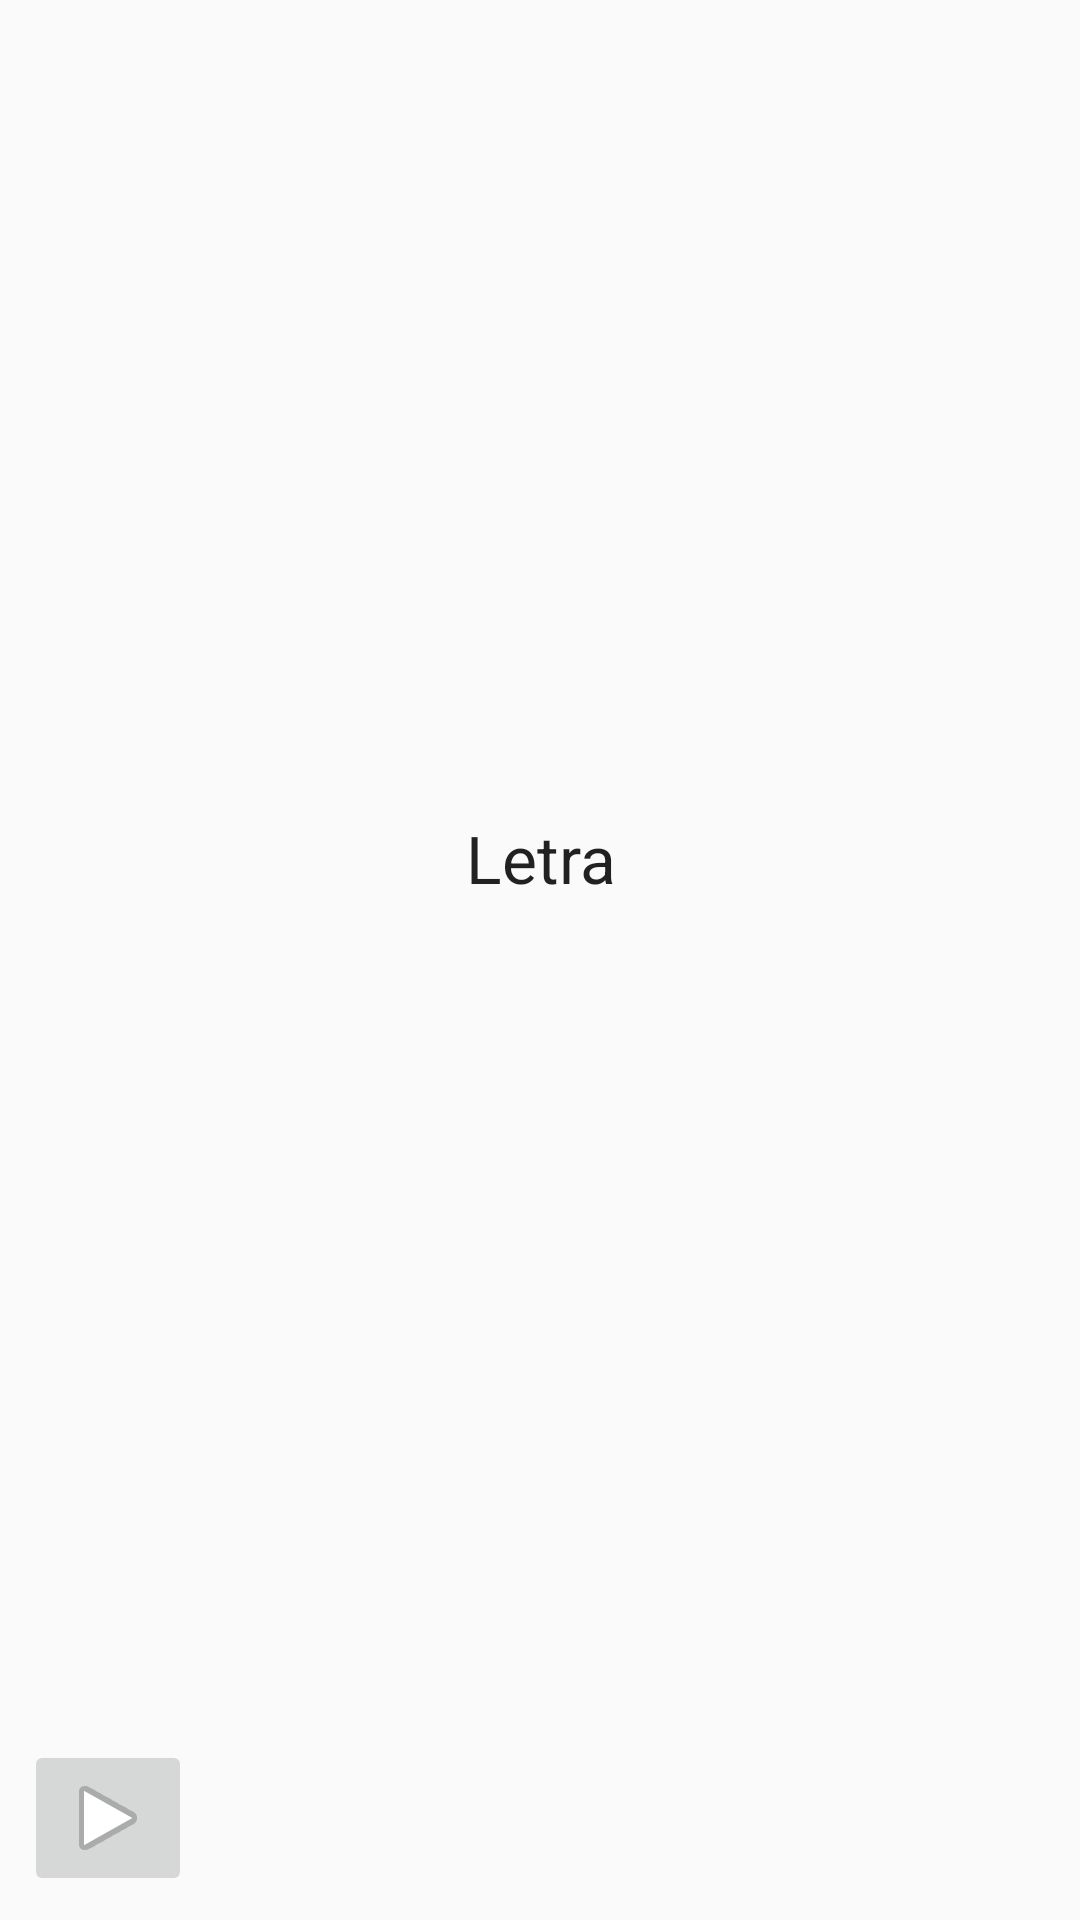

Where to tap for icons on this 1080×1920 app screen, as (x=x, y=y):
play: (x=108, y=1818)
